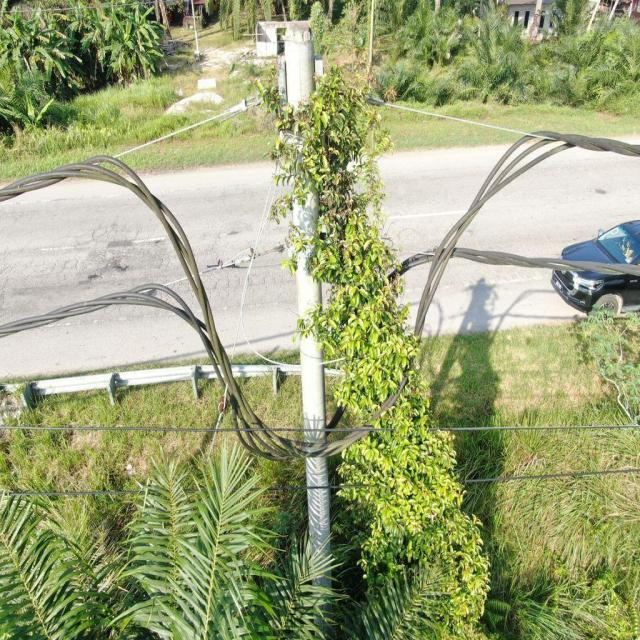light_pole: (256, 65, 493, 637)
